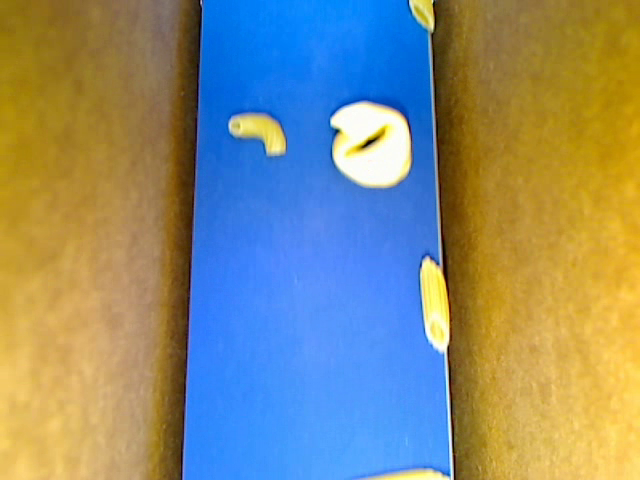elbow: (229, 112, 285, 157)
penne: (418, 256, 449, 352), (354, 468, 451, 479), (409, 1, 433, 31)
tortellini: (330, 100, 410, 191)
